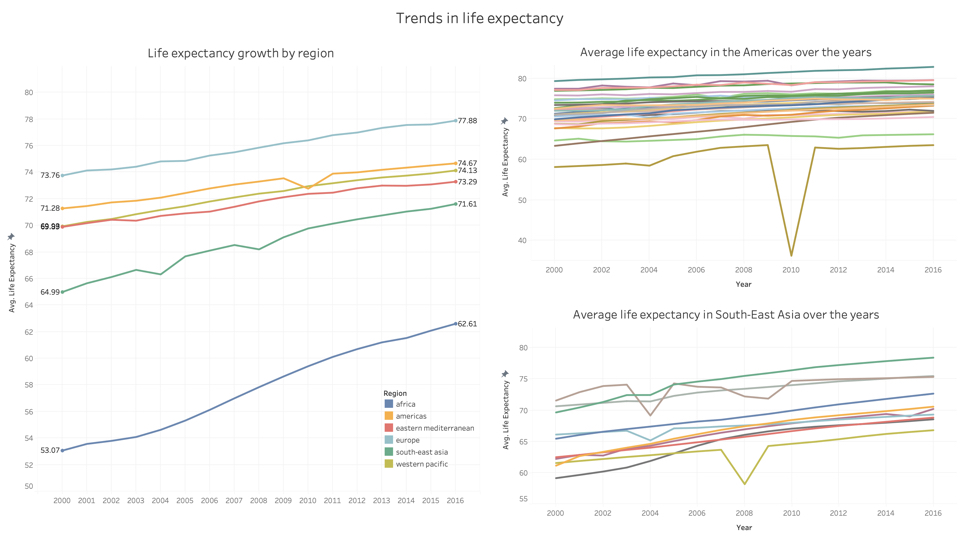

Layout of this report page (visuals, bound fields, positions):
{"tool":"tableau","page":{"name":"Trends in life expectancy","canvas":[1600,900],"ordinal":1},"visuals":[{"type":"title","box":[8,8,1584,42]},{"type":"worksheet","title":"Life expectancy in the Americas","mark":"Automatic","rows":["life_expectancy"],"cols":["year"],"box":[826,66,769,423]},{"type":"worksheet","title":"Life expectancy growth by region","mark":"Automatic","rows":["life_expectancy"],"cols":["year"],"box":[3,67,804,830]},{"type":"worksheet","title":"Life expectancy in South-East Asia","mark":"Automatic","rows":["life_expectancy"],"cols":["year"],"box":[827,504,768,391]},{"type":"legend","title":"Life expectancy growth by region","param":"[federated.1mp0aki1ie6vtg188nzm90nu4nua].[none:region:nk]","box":[638,645,161,138]}]}

Visuals, with their boxes in screenshot pixels (x1, y1, x2, y2), scaled from the page's 1600x900 canvas onto the 960x540 screenshot:
title: [5, 5, 955, 30]
"Life expectancy in the Americas" worksheet: [496, 40, 957, 293]
"Life expectancy growth by region" worksheet: [2, 40, 484, 538]
"Life expectancy in South-East Asia" worksheet: [496, 302, 957, 537]
"Life expectancy growth by region" legend: [383, 387, 479, 470]
